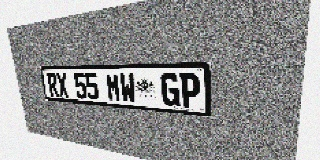5: (73, 73, 88, 99), (85, 73, 99, 100)
G: (160, 73, 180, 107)
M: (105, 73, 121, 102)
P: (179, 73, 200, 108)
R: (47, 73, 59, 97)
W: (119, 73, 136, 103)
X: (56, 73, 69, 98)
